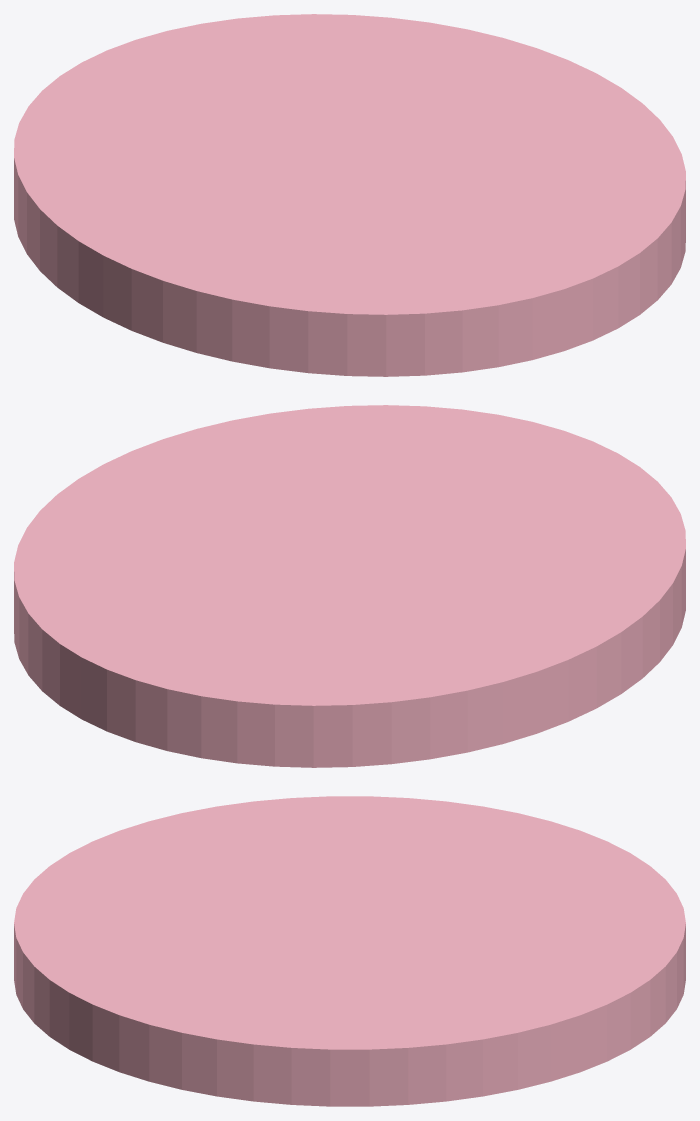
The model's file is bottom2.gltf.
The picture shows the model from 3 angles, top to bottom: view 1: azimuth 30°, elevation 25°; view 2: azimuth 150°, elevation 25°; view 3: azimuth 270°, elevation 25°; orthographic projection. The views are drawn at different scales.
Visible parts, largest first — view 1: bottom2; view 2: bottom2; view 3: bottom2.
Part boxes in pixels (x1,y1,x2,y2): bottom2: (14,14,685,376); bottom2: (14,405,685,767); bottom2: (14,796,685,1106).
Bounding box in the file's own units: 3.33 × 0.3498 × 3.73.
